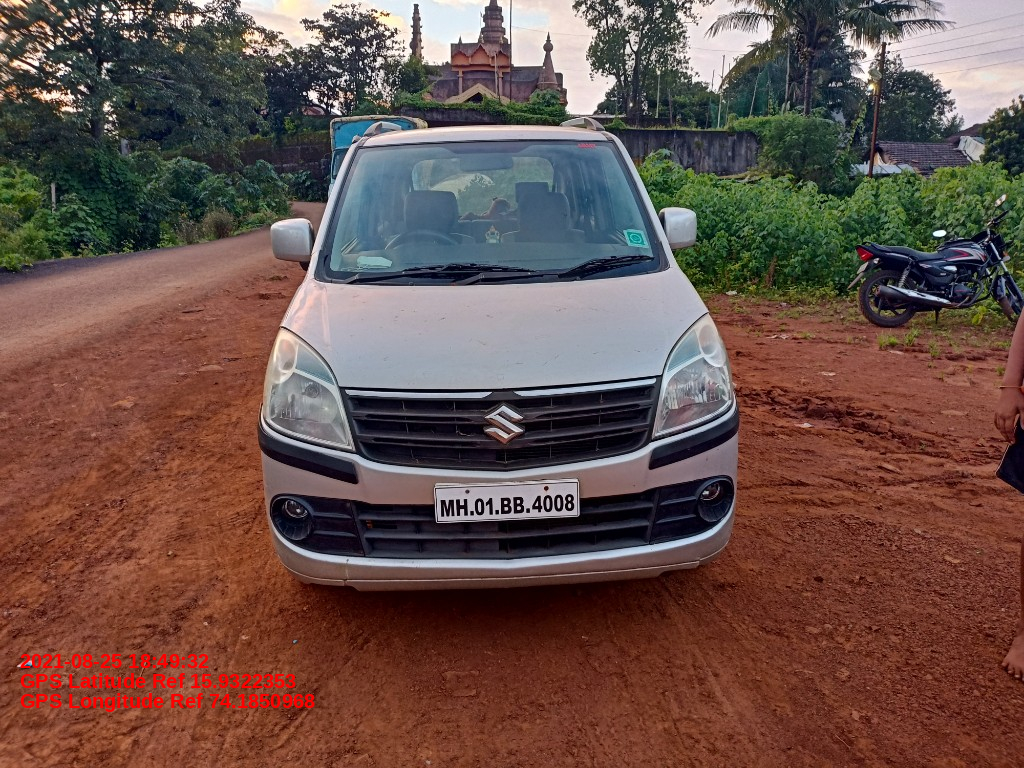Cracked: (335, 558, 357, 588)
Scratched: (702, 447, 726, 463), (628, 481, 643, 489)
